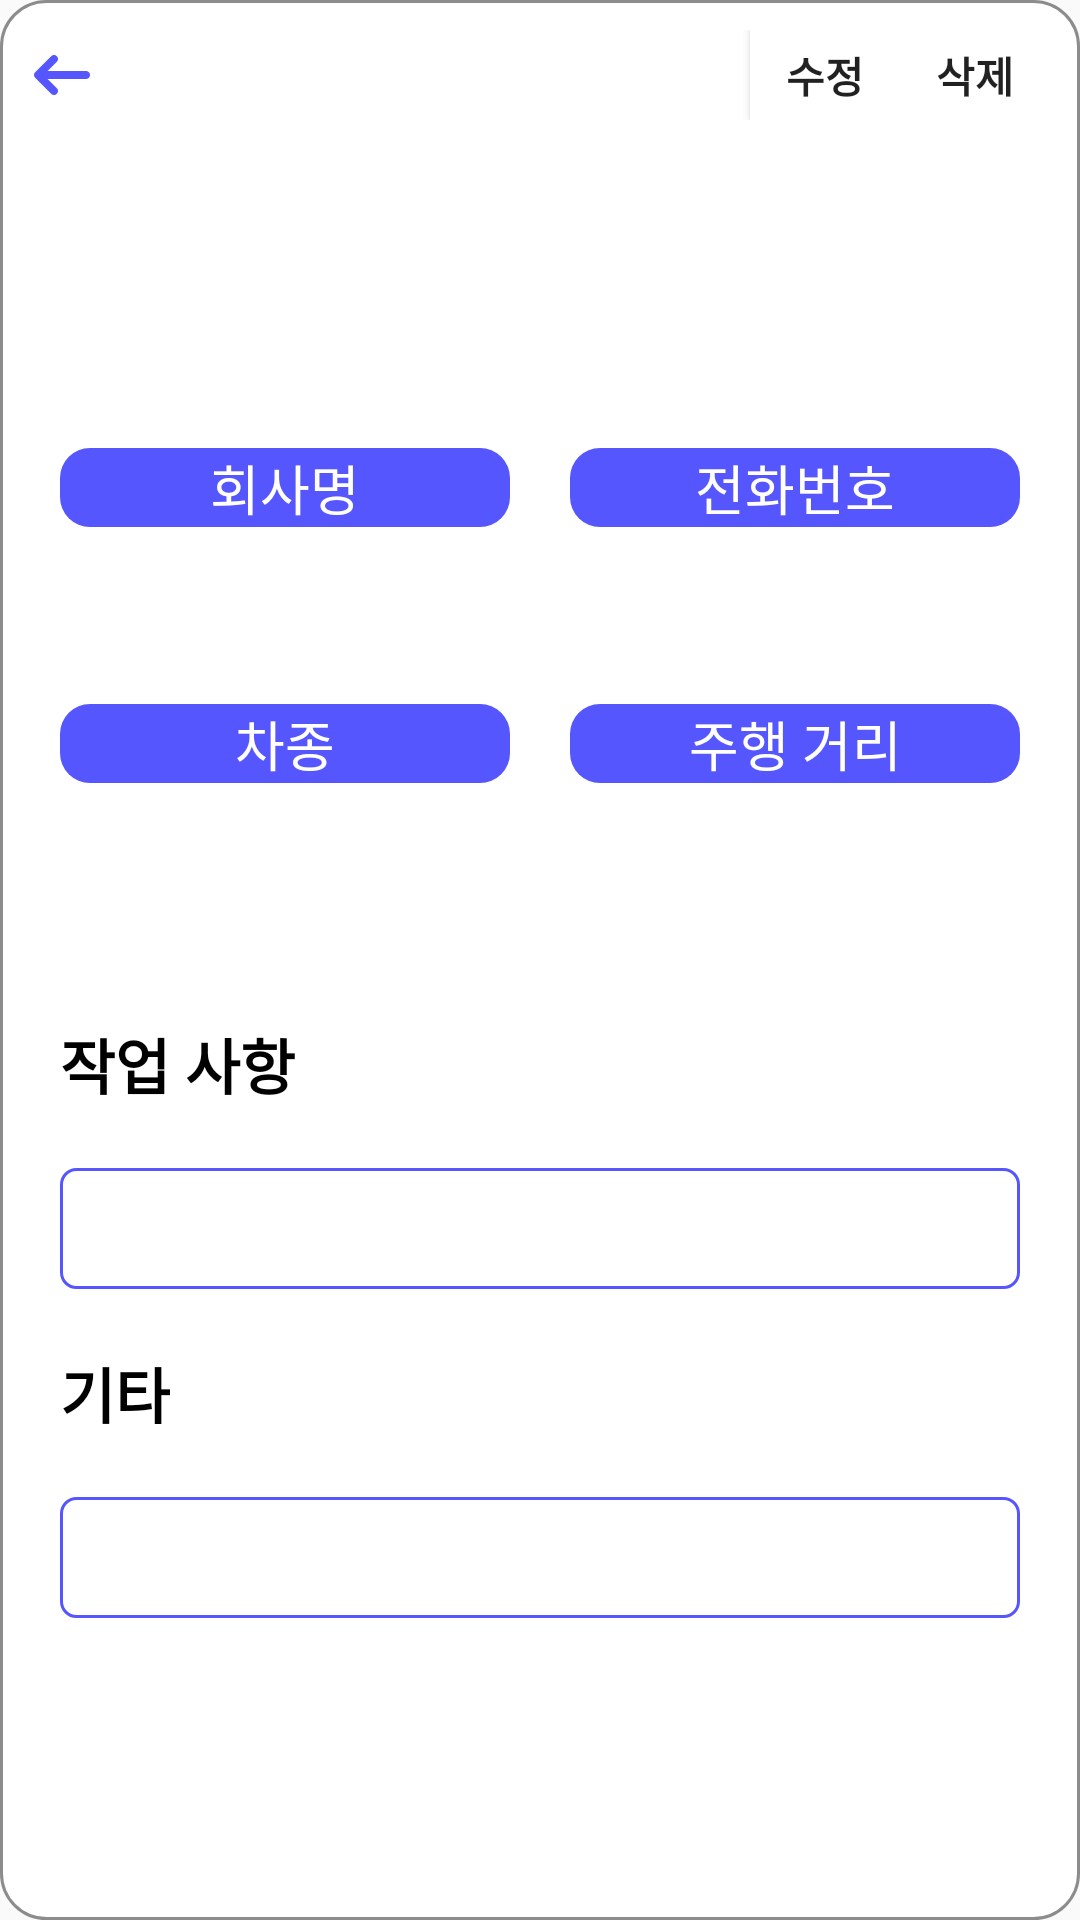

Icon click points for this 1080w x 1920h phone screenshot, format [x,y]:
back: [62,75]
